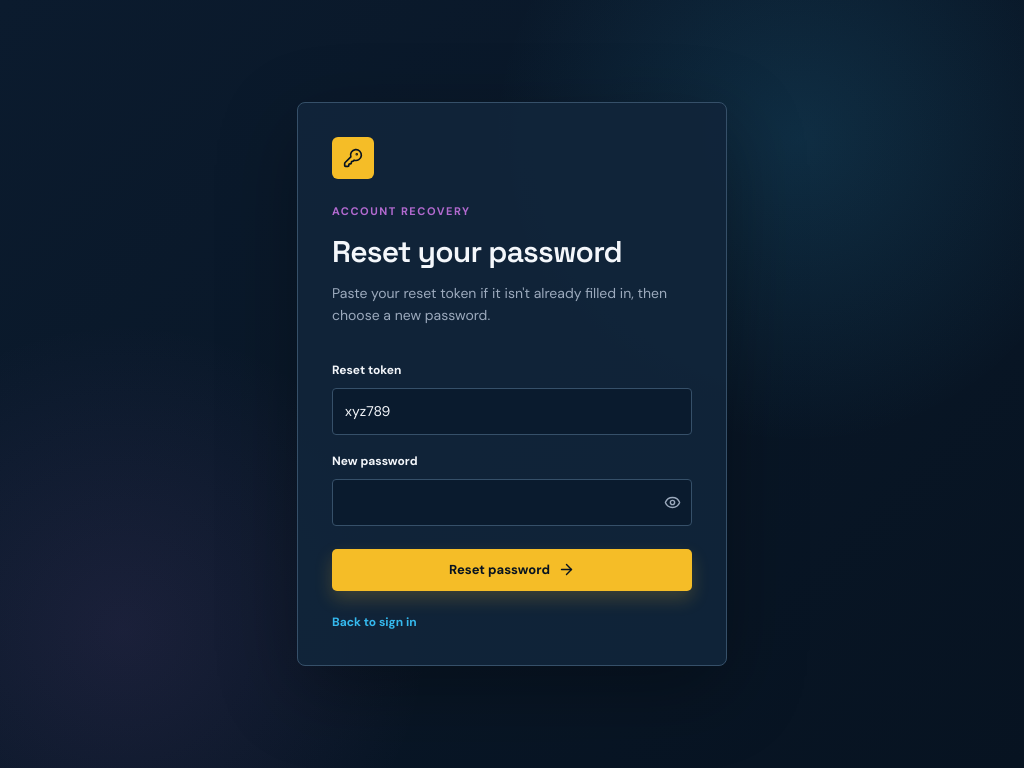
Scenario: SignIn › resets the password with a token and returns to sign in
Type "newpassword123" into the password field labelled "New password" at (512, 502), box [332,479,692,526]
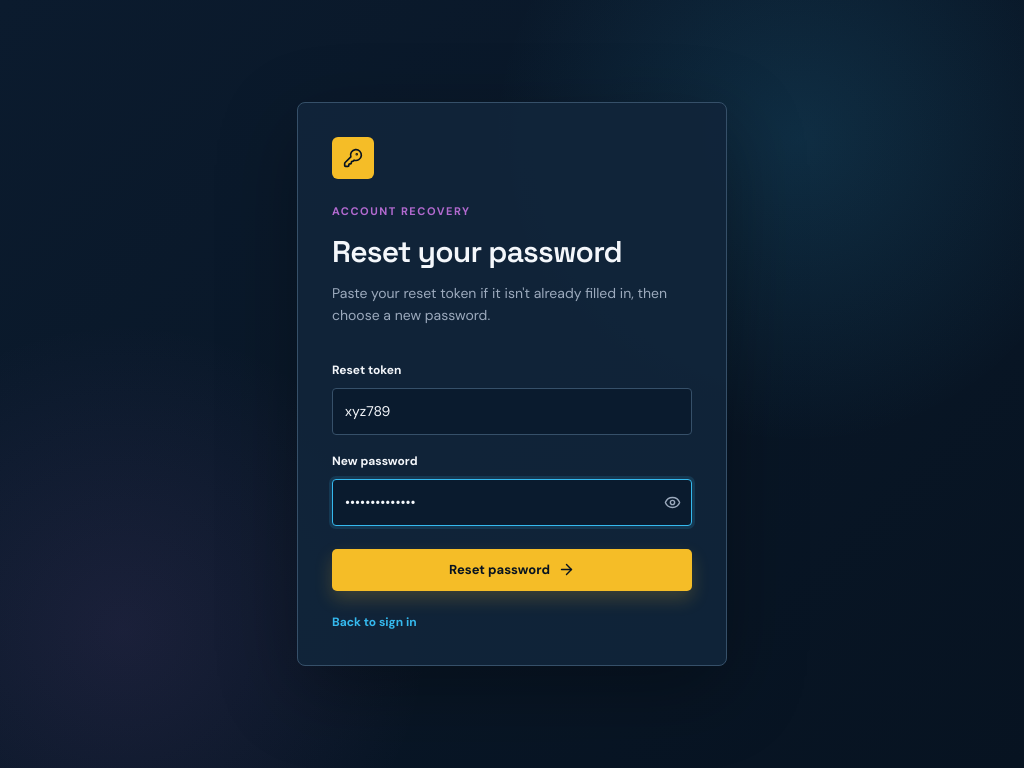
Click the button "Reset password" at (512, 570), box [332,549,692,591]
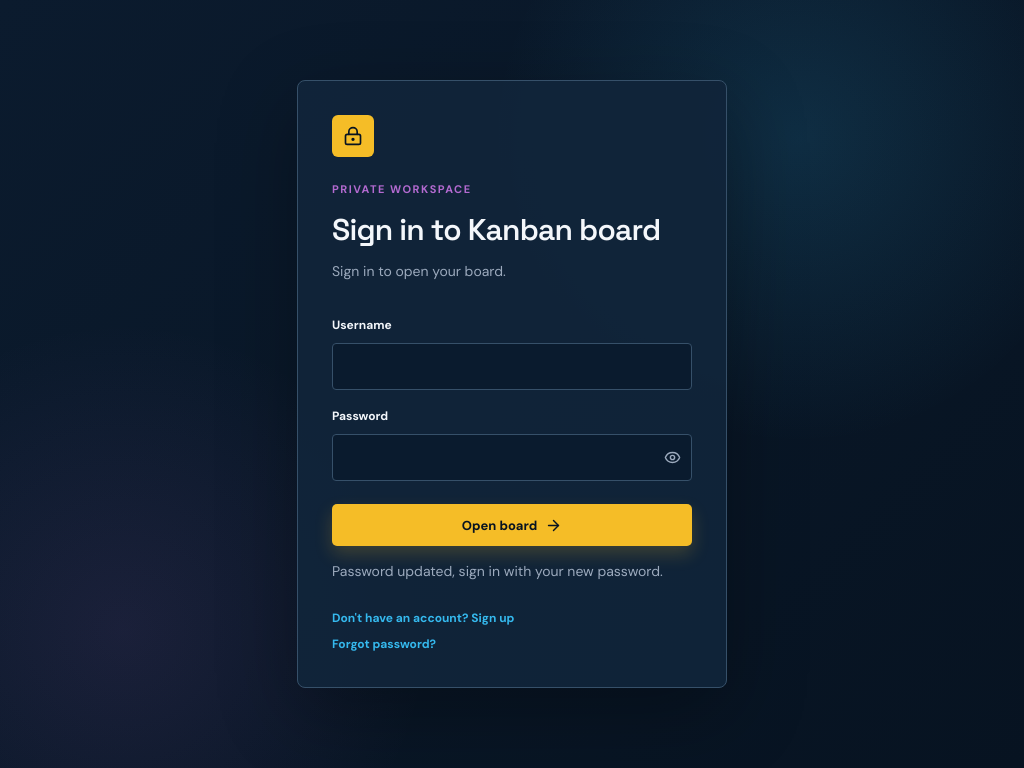
Check: the heading "Sign in to Kanban board" is shown, box [332,214,692,246]
Check: the text "Password updated, sign in with your new password." is shown, box [332,560,692,583]
